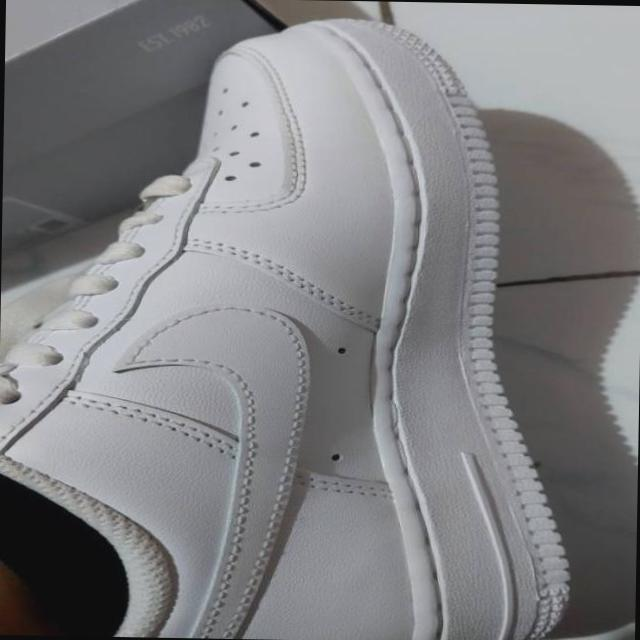nike_original_airforce: (0, 5, 588, 640)
